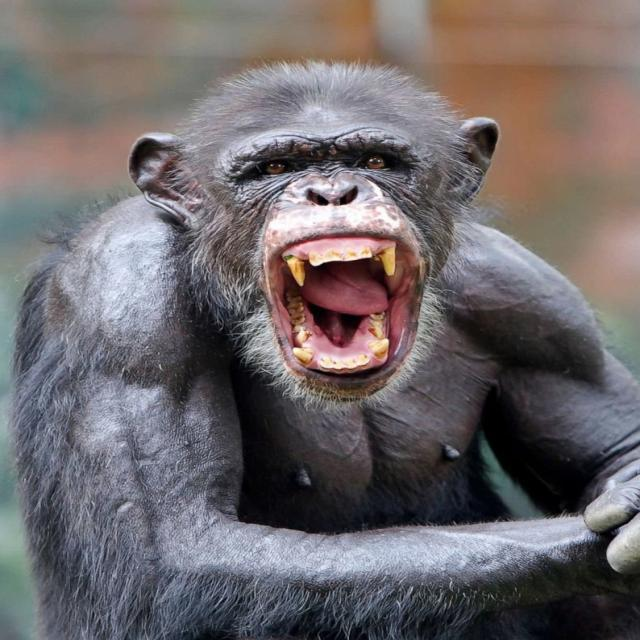chimpanzee: (10, 63, 640, 639)
